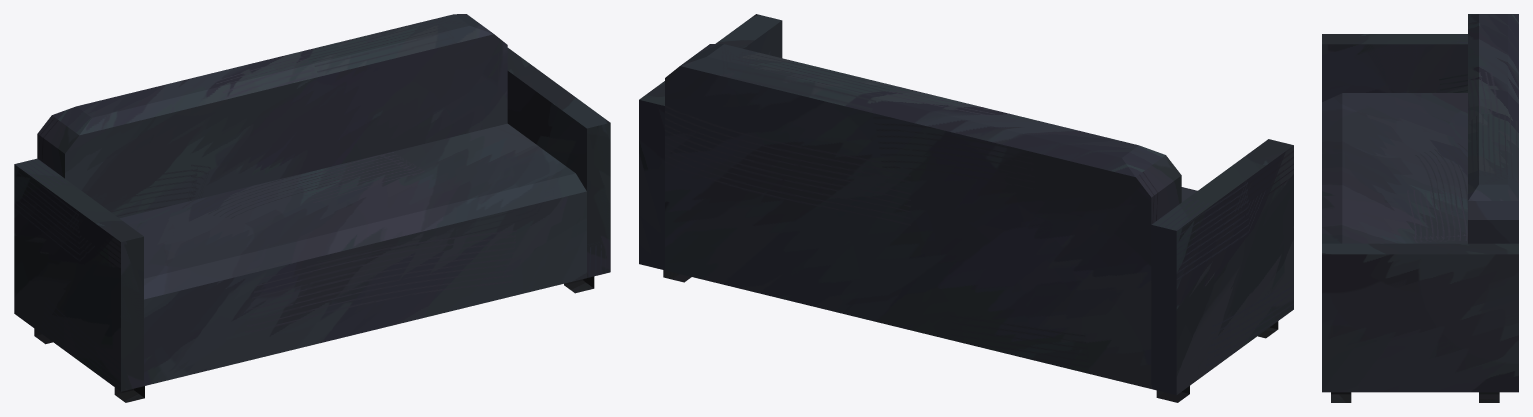
Rendered from M-CouchFIN.fbx.
3 views of the same model, side by side, from view 1: azimuth 30°, elevation 25°; view 2: azimuth 150°, elevation 25°; view 3: azimuth 270°, elevation 25° (orthographic). The views are drawn at different scales.
Visible parts, largest first — view 1: Cube; view 2: Cube; view 3: Cube.
Boxes of the visible parts, left/top/right/bottom form: Cube: left=14, top=14, right=610, bottom=402; Cube: left=639, top=14, right=1293, bottom=402; Cube: left=1322, top=14, right=1518, bottom=402.
Bounding box in the file's own units: 424 × 178 × 160.
